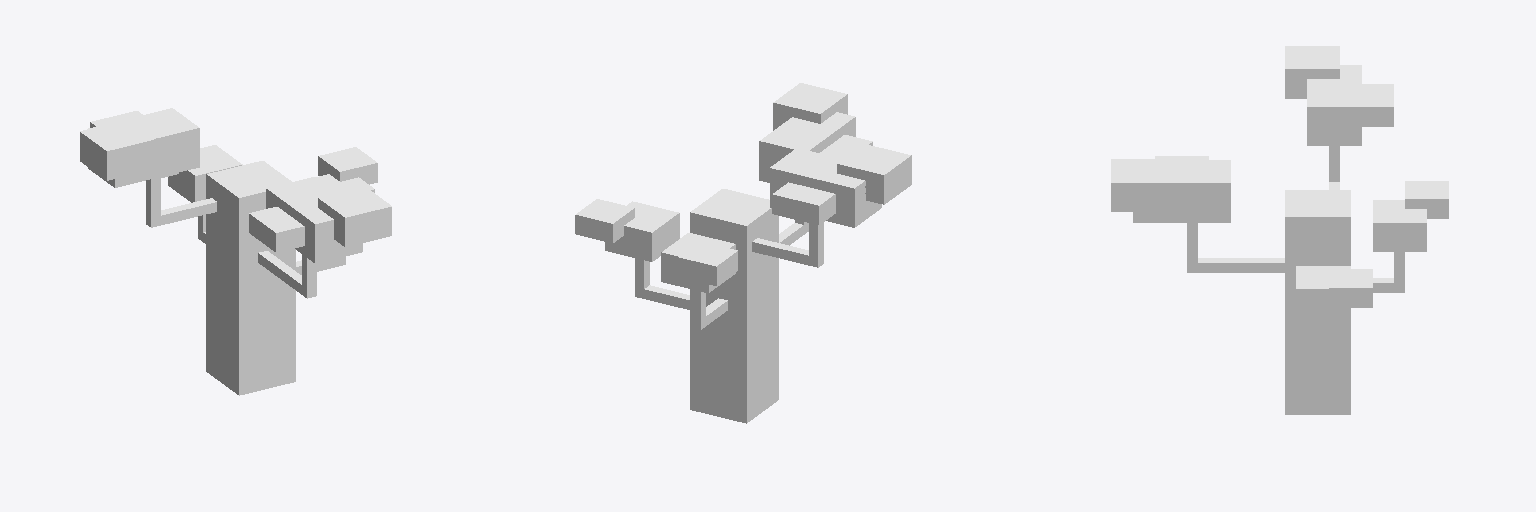
The model's file is Tree_001.obj.
3 renders of one model, left to right at view 1: azimuth 30°, elevation 25°; view 2: azimuth 150°, elevation 25°; view 3: azimuth 270°, elevation 25°, orthographic.
Visible parts, largest first — view 1: Tree_001; view 2: Tree_001; view 3: Tree_001.
Part boxes in pixels (x1,y1,x2,y2): Tree_001: (80, 108, 391, 395); Tree_001: (575, 83, 911, 423); Tree_001: (1111, 46, 1448, 414).
Size of the model in its own units: 31 by 28 by 31.